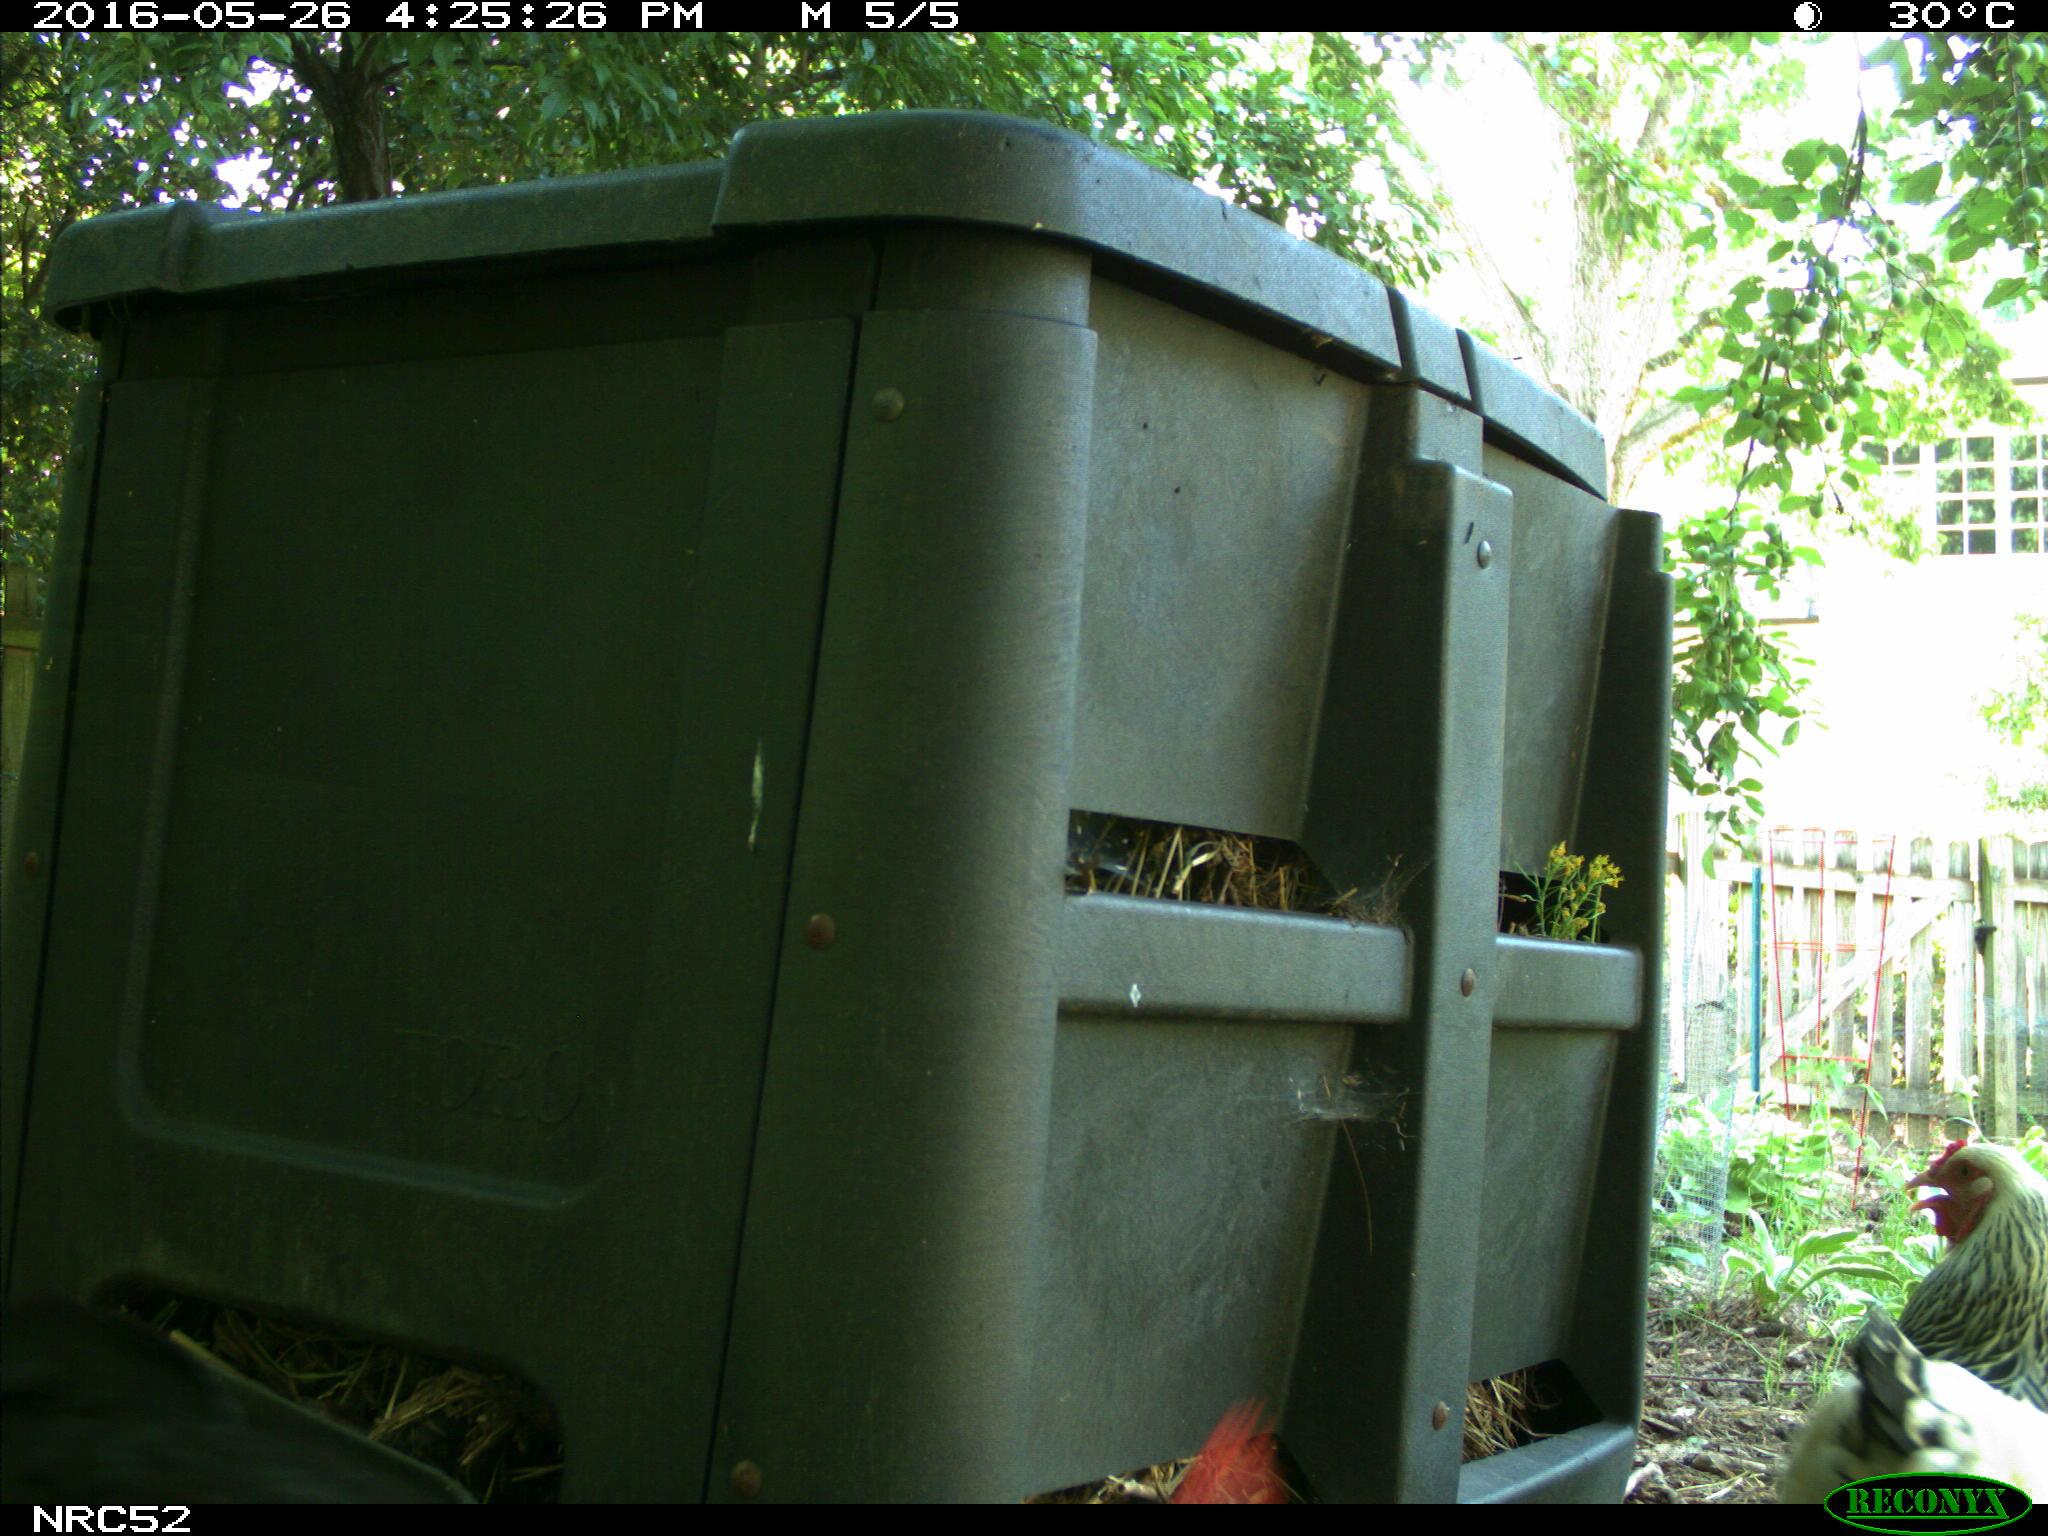Animal: (1784, 1139, 2048, 1501)
